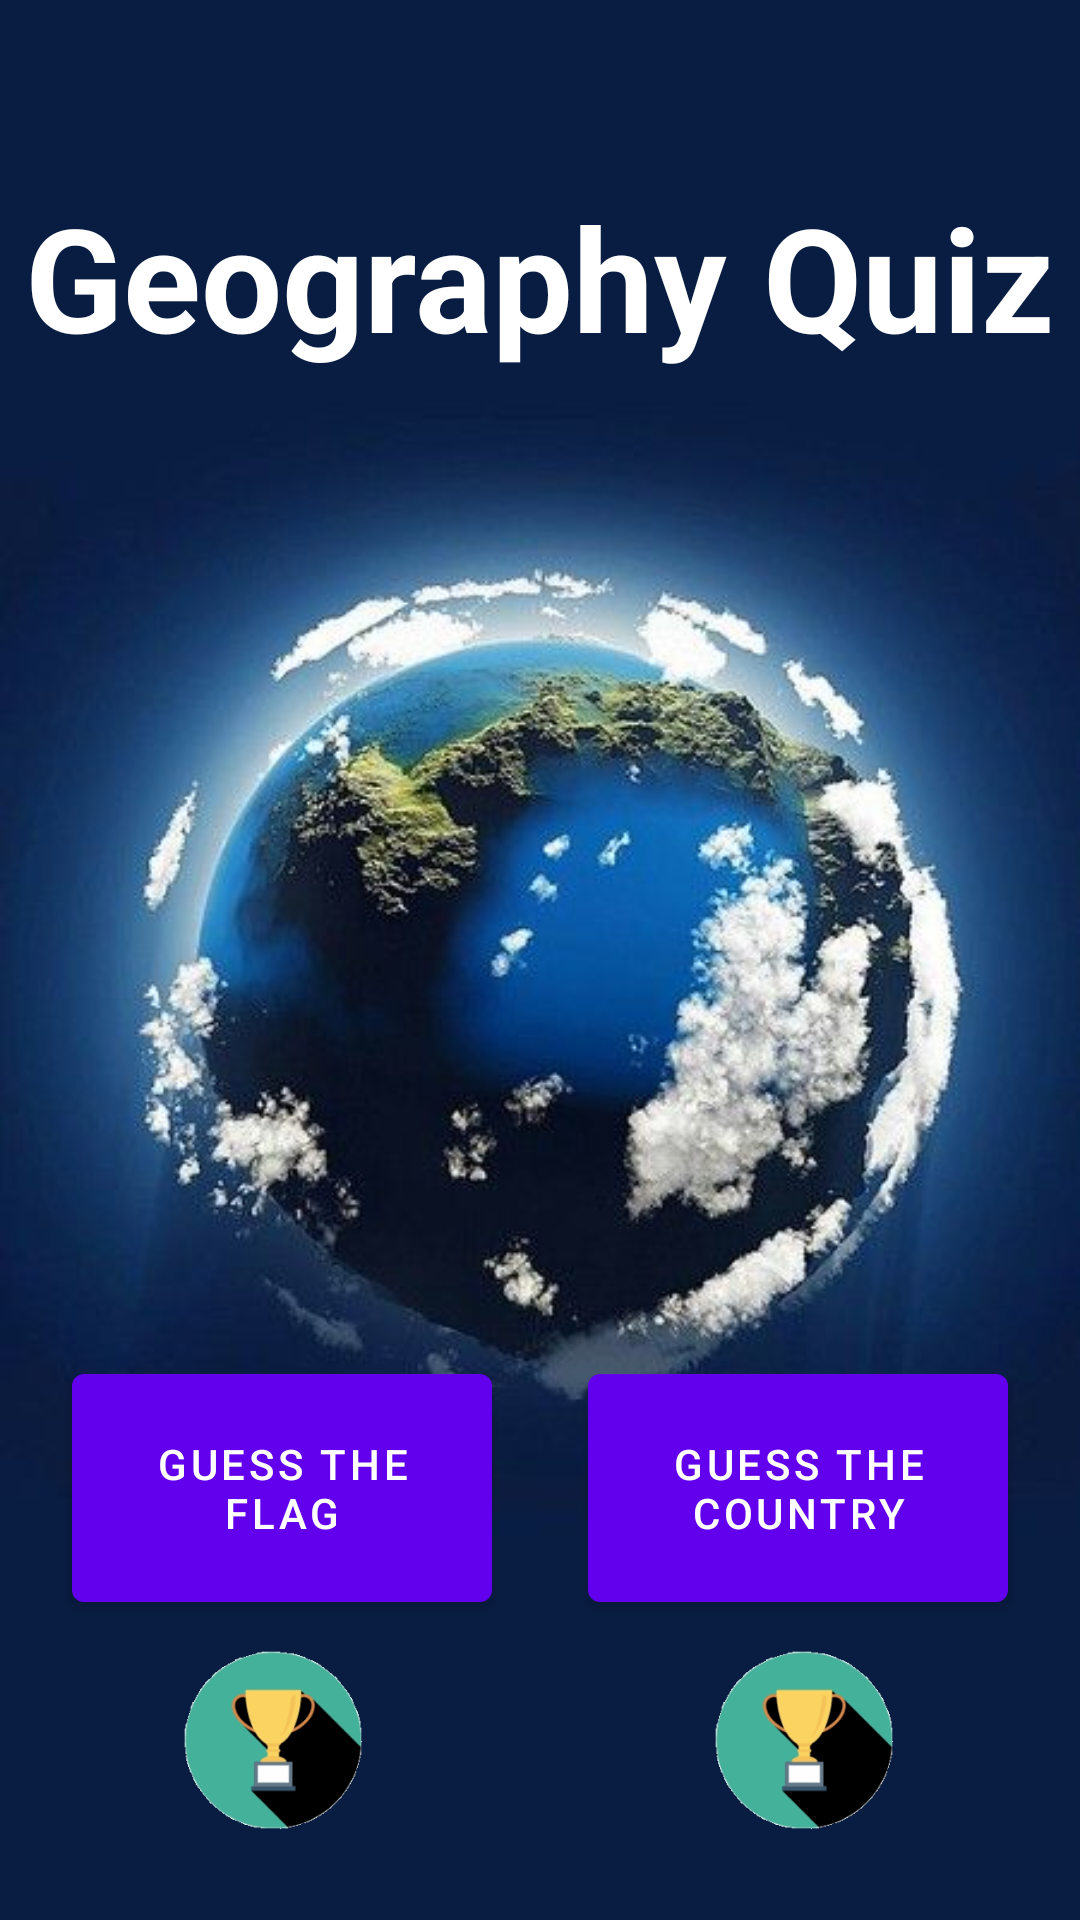

Where to tap for icons on this 1080*1920 app screen, as (x,y):
trophy: (273,1740), (804,1740)
